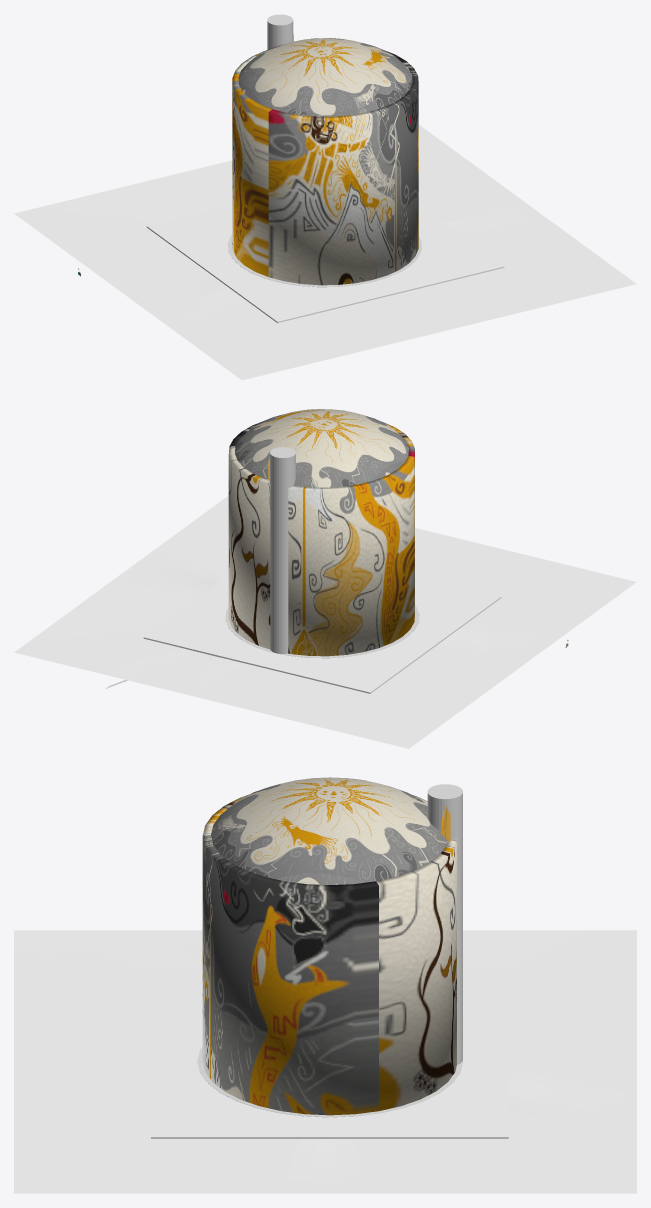
The model's file is escena.glb.
The picture shows the model from 3 angles, top to bottom: view 1: azimuth 30°, elevation 25°; view 2: azimuth 150°, elevation 25°; view 3: azimuth 270°, elevation 25°; orthographic projection. The views are drawn at different scales.
Parts seen in each view (by area): view 1: Suelo base, cupula_360, fomasdechoque.002, fomasdechoque.001; view 2: Suelo base, cupula_360, fomasdechoque.002, fomasdechoque.001; view 3: Suelo base, cupula_360, fomasdechoque.002, fomasdechoque.001.
Part boxes in pixels (x1,y1,x2,y2): Suelo base: (14, 34, 636, 380); cupula_360: (232, 38, 418, 285); fomasdechoque.002: (267, 14, 293, 49); fomasdechoque.001: (228, 234, 421, 287); Suelo base: (14, 458, 636, 748); cupula_360: (228, 409, 414, 656); fomasdechoque.002: (270, 447, 295, 653); fomasdechoque.001: (225, 605, 419, 658); Suelo base: (14, 806, 636, 1193); cupula_360: (202, 777, 456, 1115); fomasdechoque.002: (427, 784, 462, 1064); fomasdechoque.001: (197, 1047, 462, 1117).
Size of the model in its own units: 43.48 by 23.03 by 38.79.
15 materials, 7 textured.
